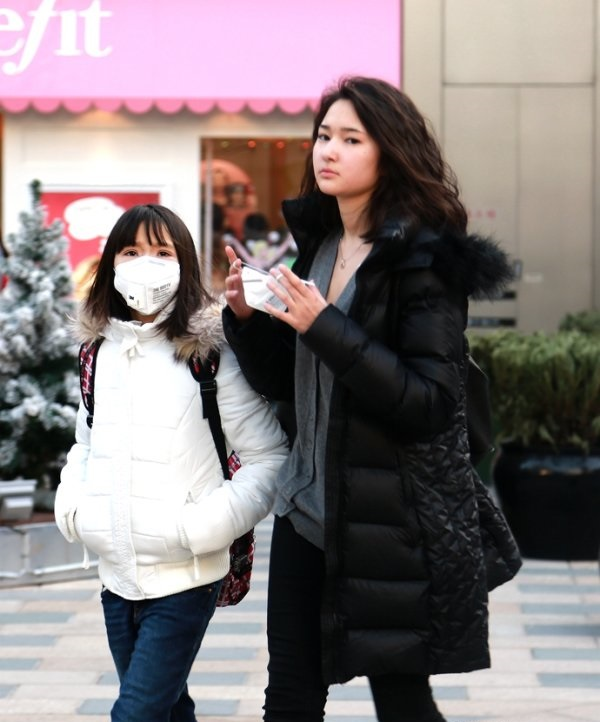face: (312, 99, 378, 195)
face_mask: (115, 220, 177, 313)
